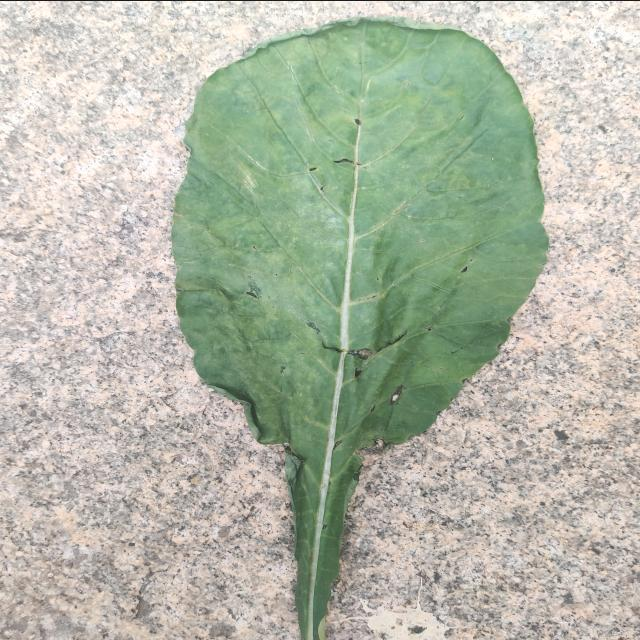leaf: (170, 16, 549, 639)
